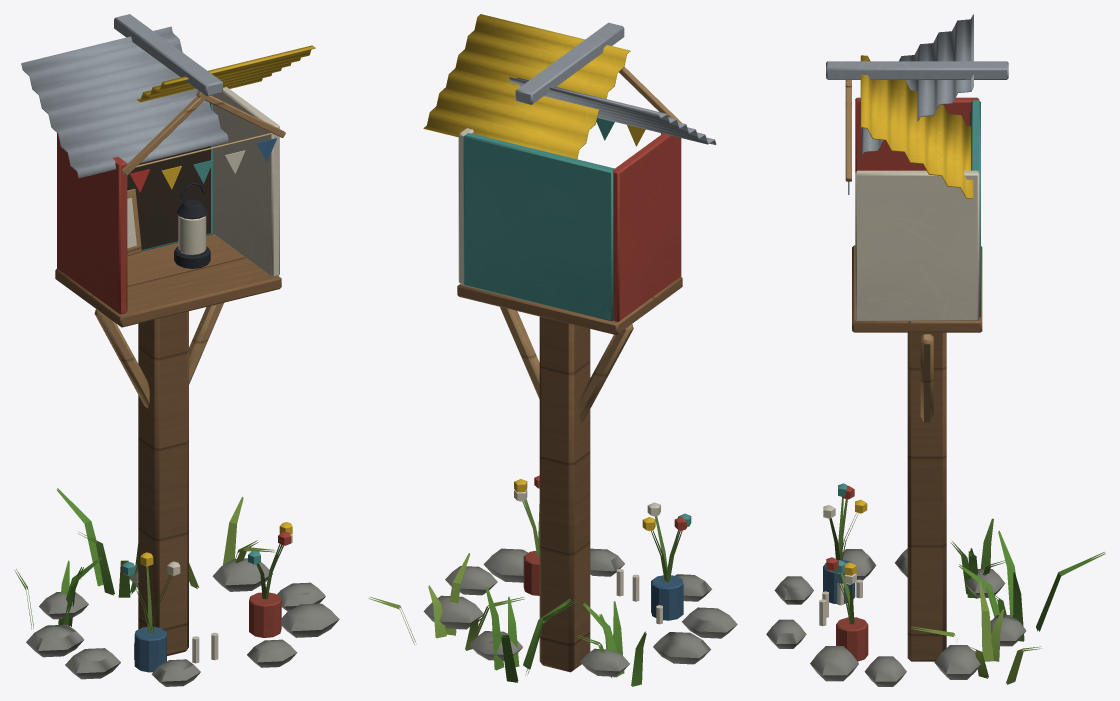
Rendered from roadside_shrine.glb.
3 renders of one model, left to right at view 1: azimuth 30°, elevation 25°; view 2: azimuth 150°, elevation 25°; view 3: azimuth 270°, elevation 25°, orthographic. The views are drawn at different scales.
Visible parts, largest first — view 1: roadside_shrine; view 2: roadside_shrine; view 3: roadside_shrine.
Boxes of the visible parts, x1,y1,x2,y2 form: roadside_shrine: [14, 14, 339, 686]; roadside_shrine: [368, 14, 737, 686]; roadside_shrine: [766, 14, 1105, 686].
Size of the model in its own units: 0.9534 by 2 by 1.04.
31 materials, 30 textured.
